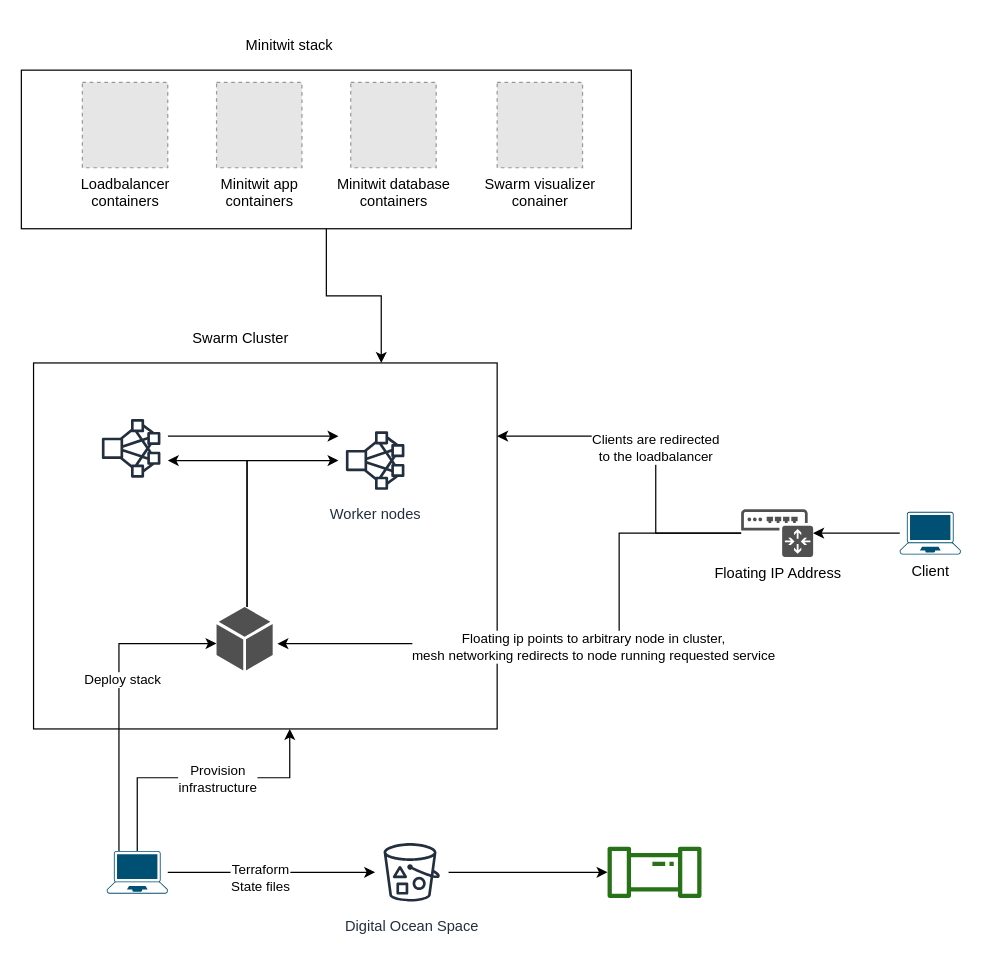
Image size: 982x955. Some labels were removed from this diagram. Grey dashed boxes stand in for pictures. The shapes that lost their labels are listed below. From the top down, each one's box as (x1, y1, x2, y2) in pixels, then its label:
(93, 411, 168, 485): Manager nodes
(216, 606, 272, 670): Master node
(106, 850, 167, 893): Developer
(606, 846, 702, 897): CI systems / pipelines
